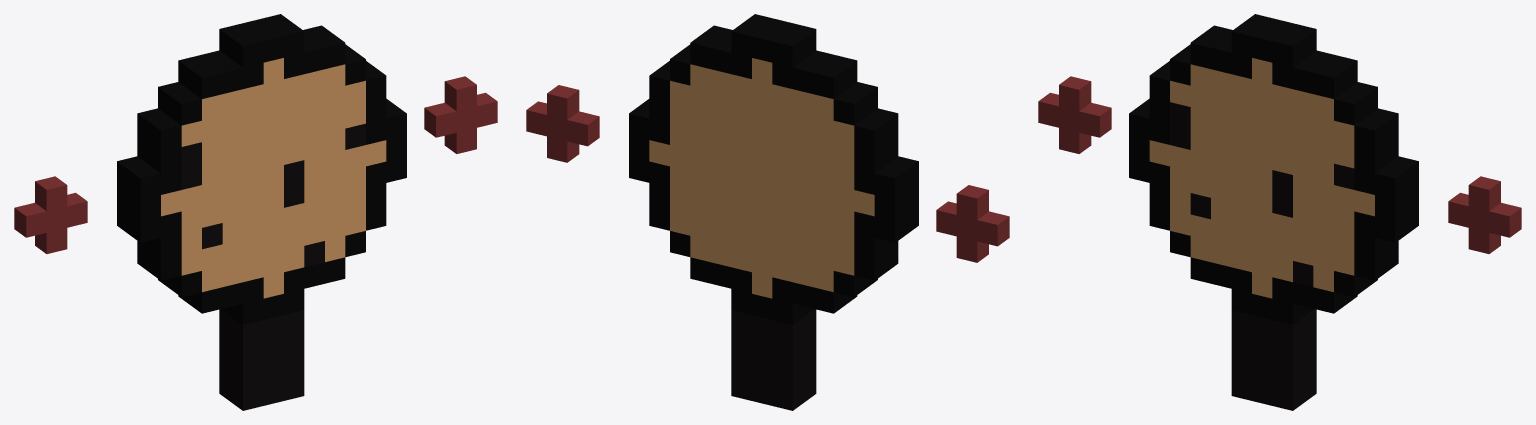
The model's file is item.obj.
3 views of the same model, side by side, from view 1: azimuth 30°, elevation 25°; view 2: azimuth 150°, elevation 25°; view 3: azimuth 330°, elevation 25° (orthographic).
Parts seen in each view (by area): view 1: item; view 2: item; view 3: item.
Boxes of the visible parts, left/top/right/bottom form: item: left=14, top=14, right=497, bottom=410; item: left=526, top=14, right=1009, bottom=410; item: left=1038, top=14, right=1521, bottom=410.
Bounding box in the file's own units: 1.15 × 0.85 × 0.1.
1 material, 1 textured.
